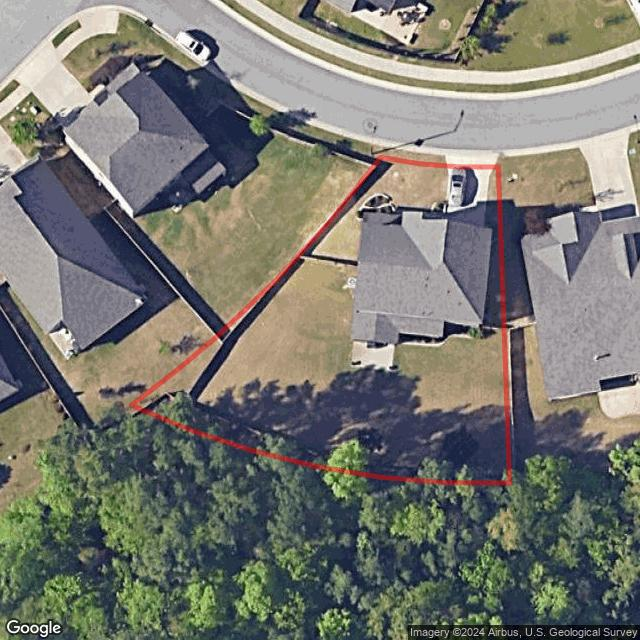Driveway: (447, 167, 494, 227)
Extra-Driveway: (444, 154, 498, 167)
Extra-Lawn: (379, 146, 447, 166)
House: (349, 210, 493, 346)
Lawn: (130, 156, 509, 482)
Other: (143, 394, 509, 484), (351, 342, 396, 374), (359, 193, 398, 217), (398, 335, 475, 347), (342, 278, 356, 289)
